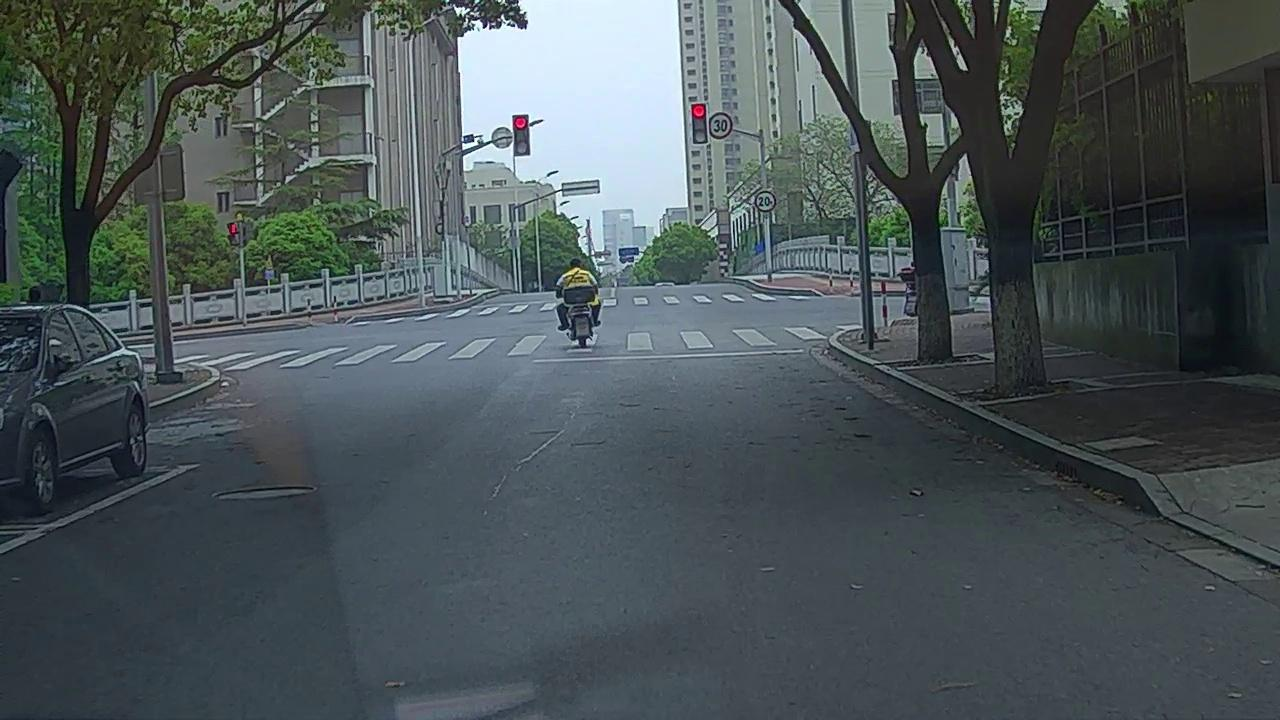traffic_light: (513, 115, 531, 155), (691, 103, 708, 144)
